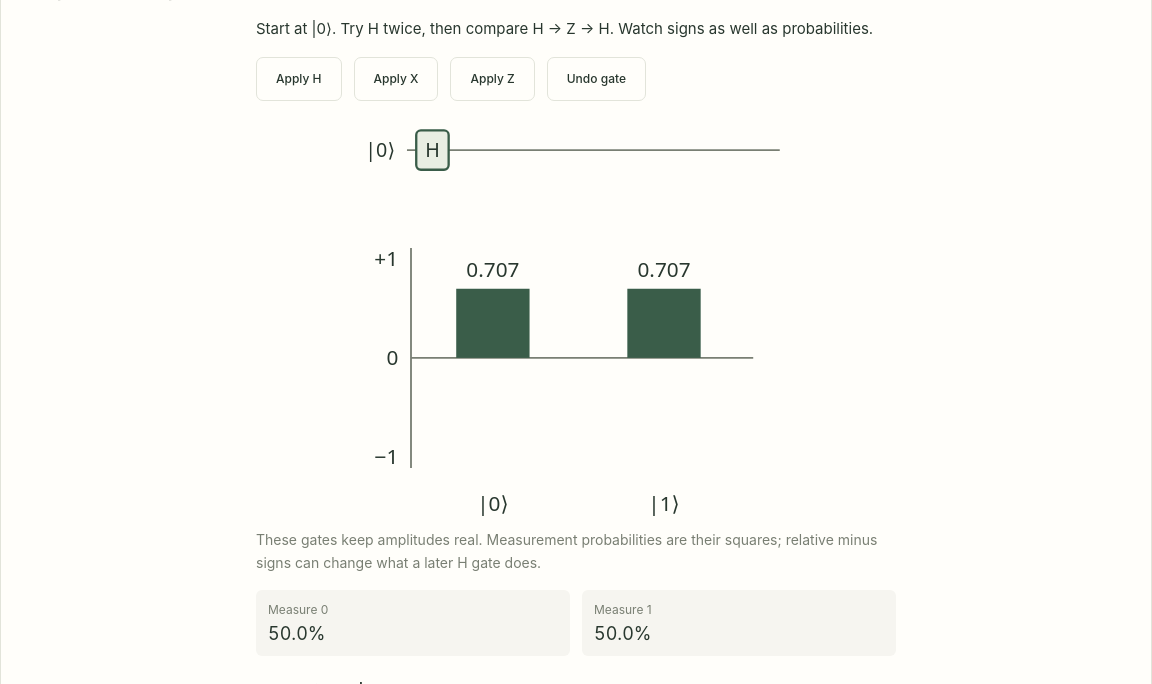
builds a phase-sensitive circuit, undoes a gate, and resets both practice and feedback
Earlier steps of the test are not shown.
Click the button "Apply Z": (493, 79) [450, 57, 535, 101]
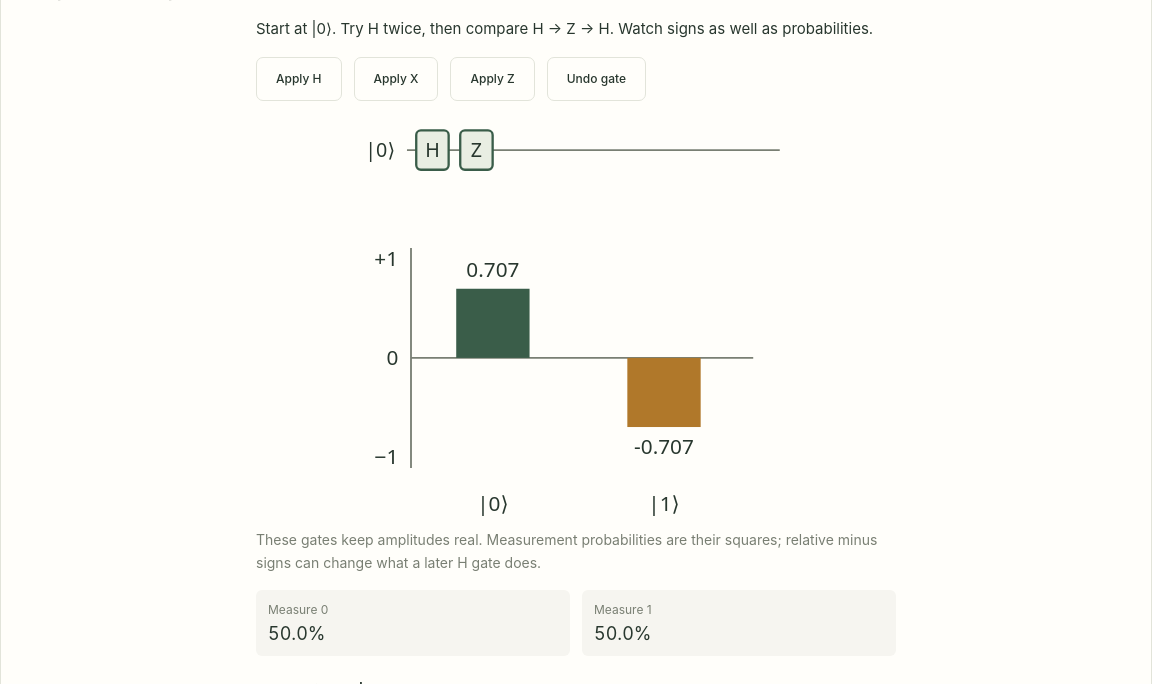
Click the button "Apply H": (299, 79) [256, 57, 342, 101]
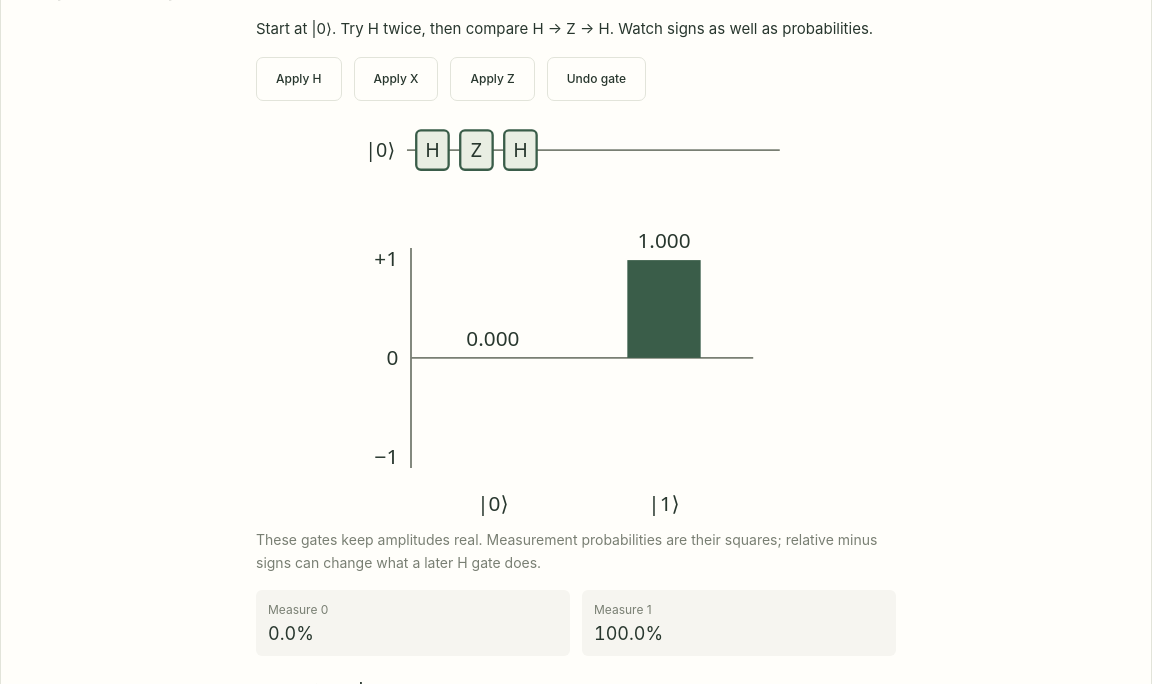
Click the button "Undo gate": (596, 79) [547, 57, 646, 101]
(page scrolled)
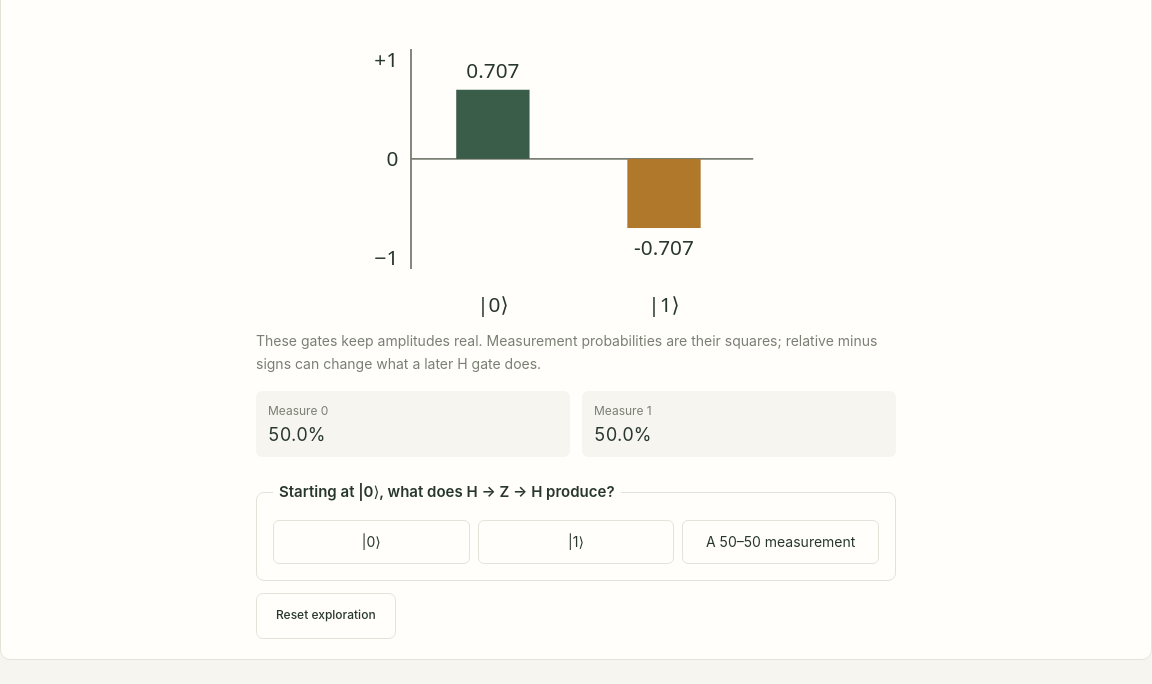
Click the button "|0⟩": (371, 542) [273, 520, 470, 564]
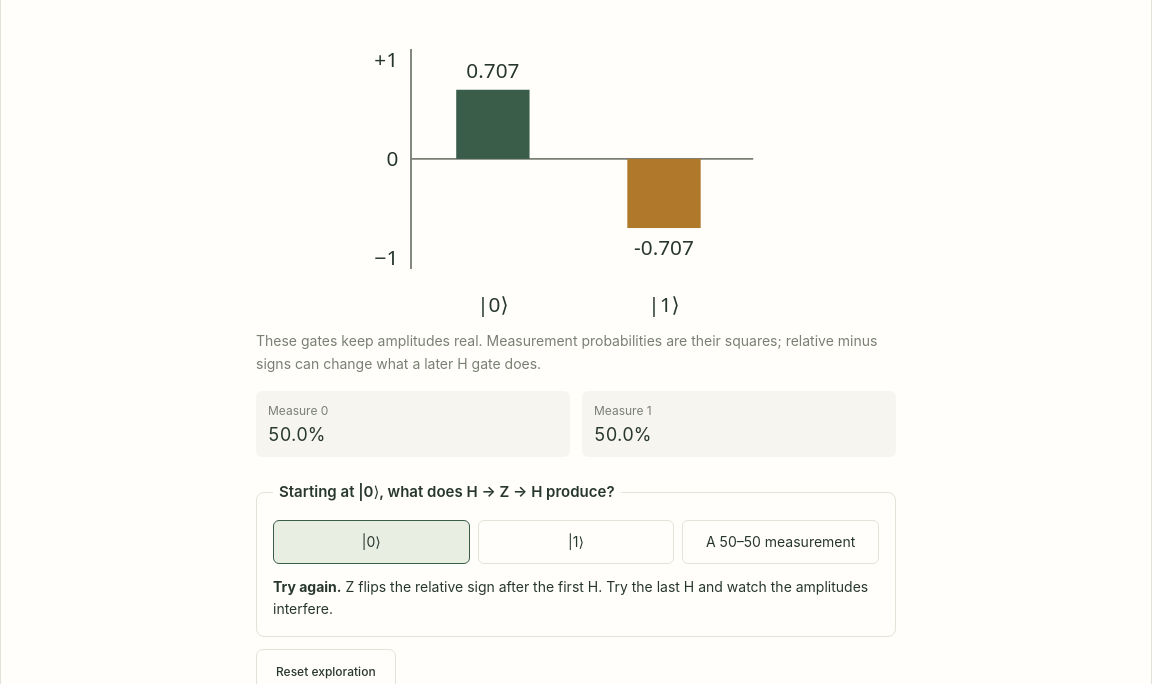
Expected: the text "Try again." is shown, [273, 578, 342, 595]
Click the button "|1⟩": (576, 542) [478, 520, 674, 564]
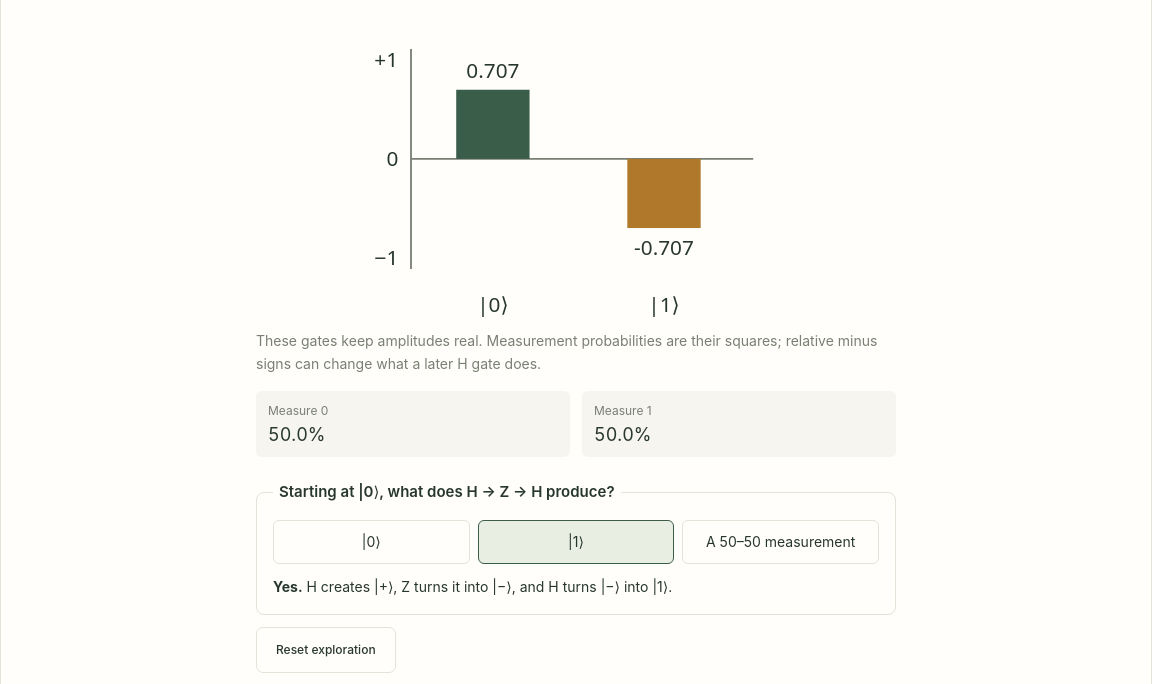
Expected: the text "Yes." is shown, [273, 578, 303, 595]
Click the button "Reset exploration": (326, 650) [256, 627, 396, 673]
(page scrolled)
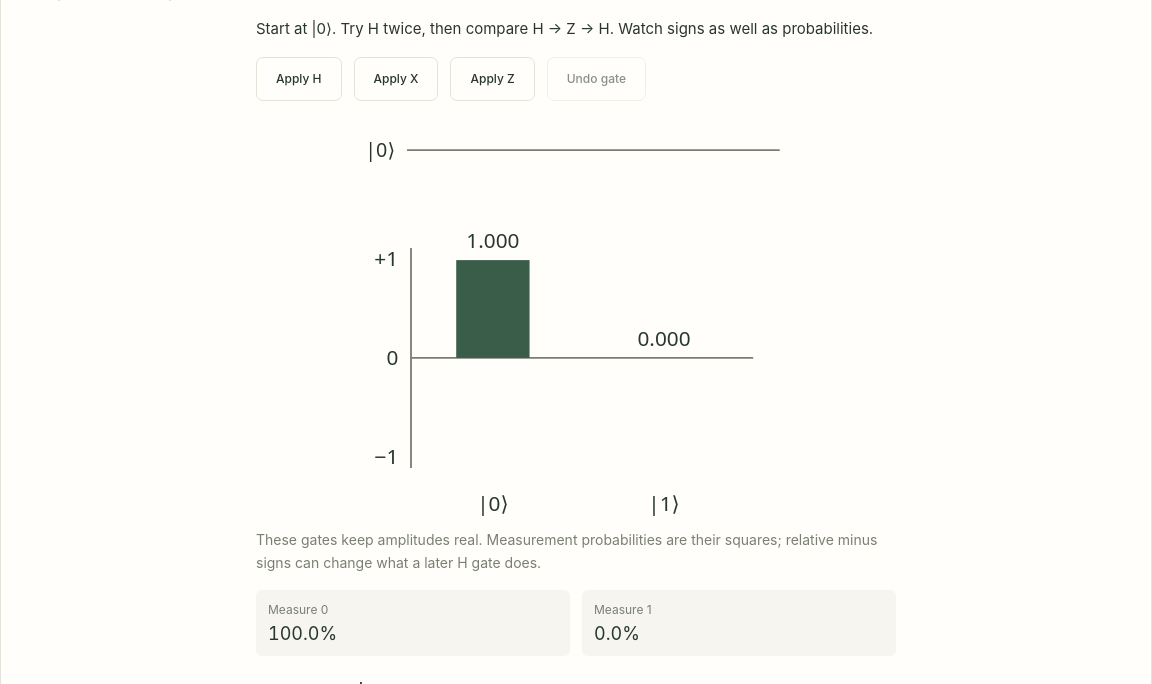
Expected: the text "Yes." is gone
Expected: the button "Undo gate" is disabled, [547, 57, 646, 101]
